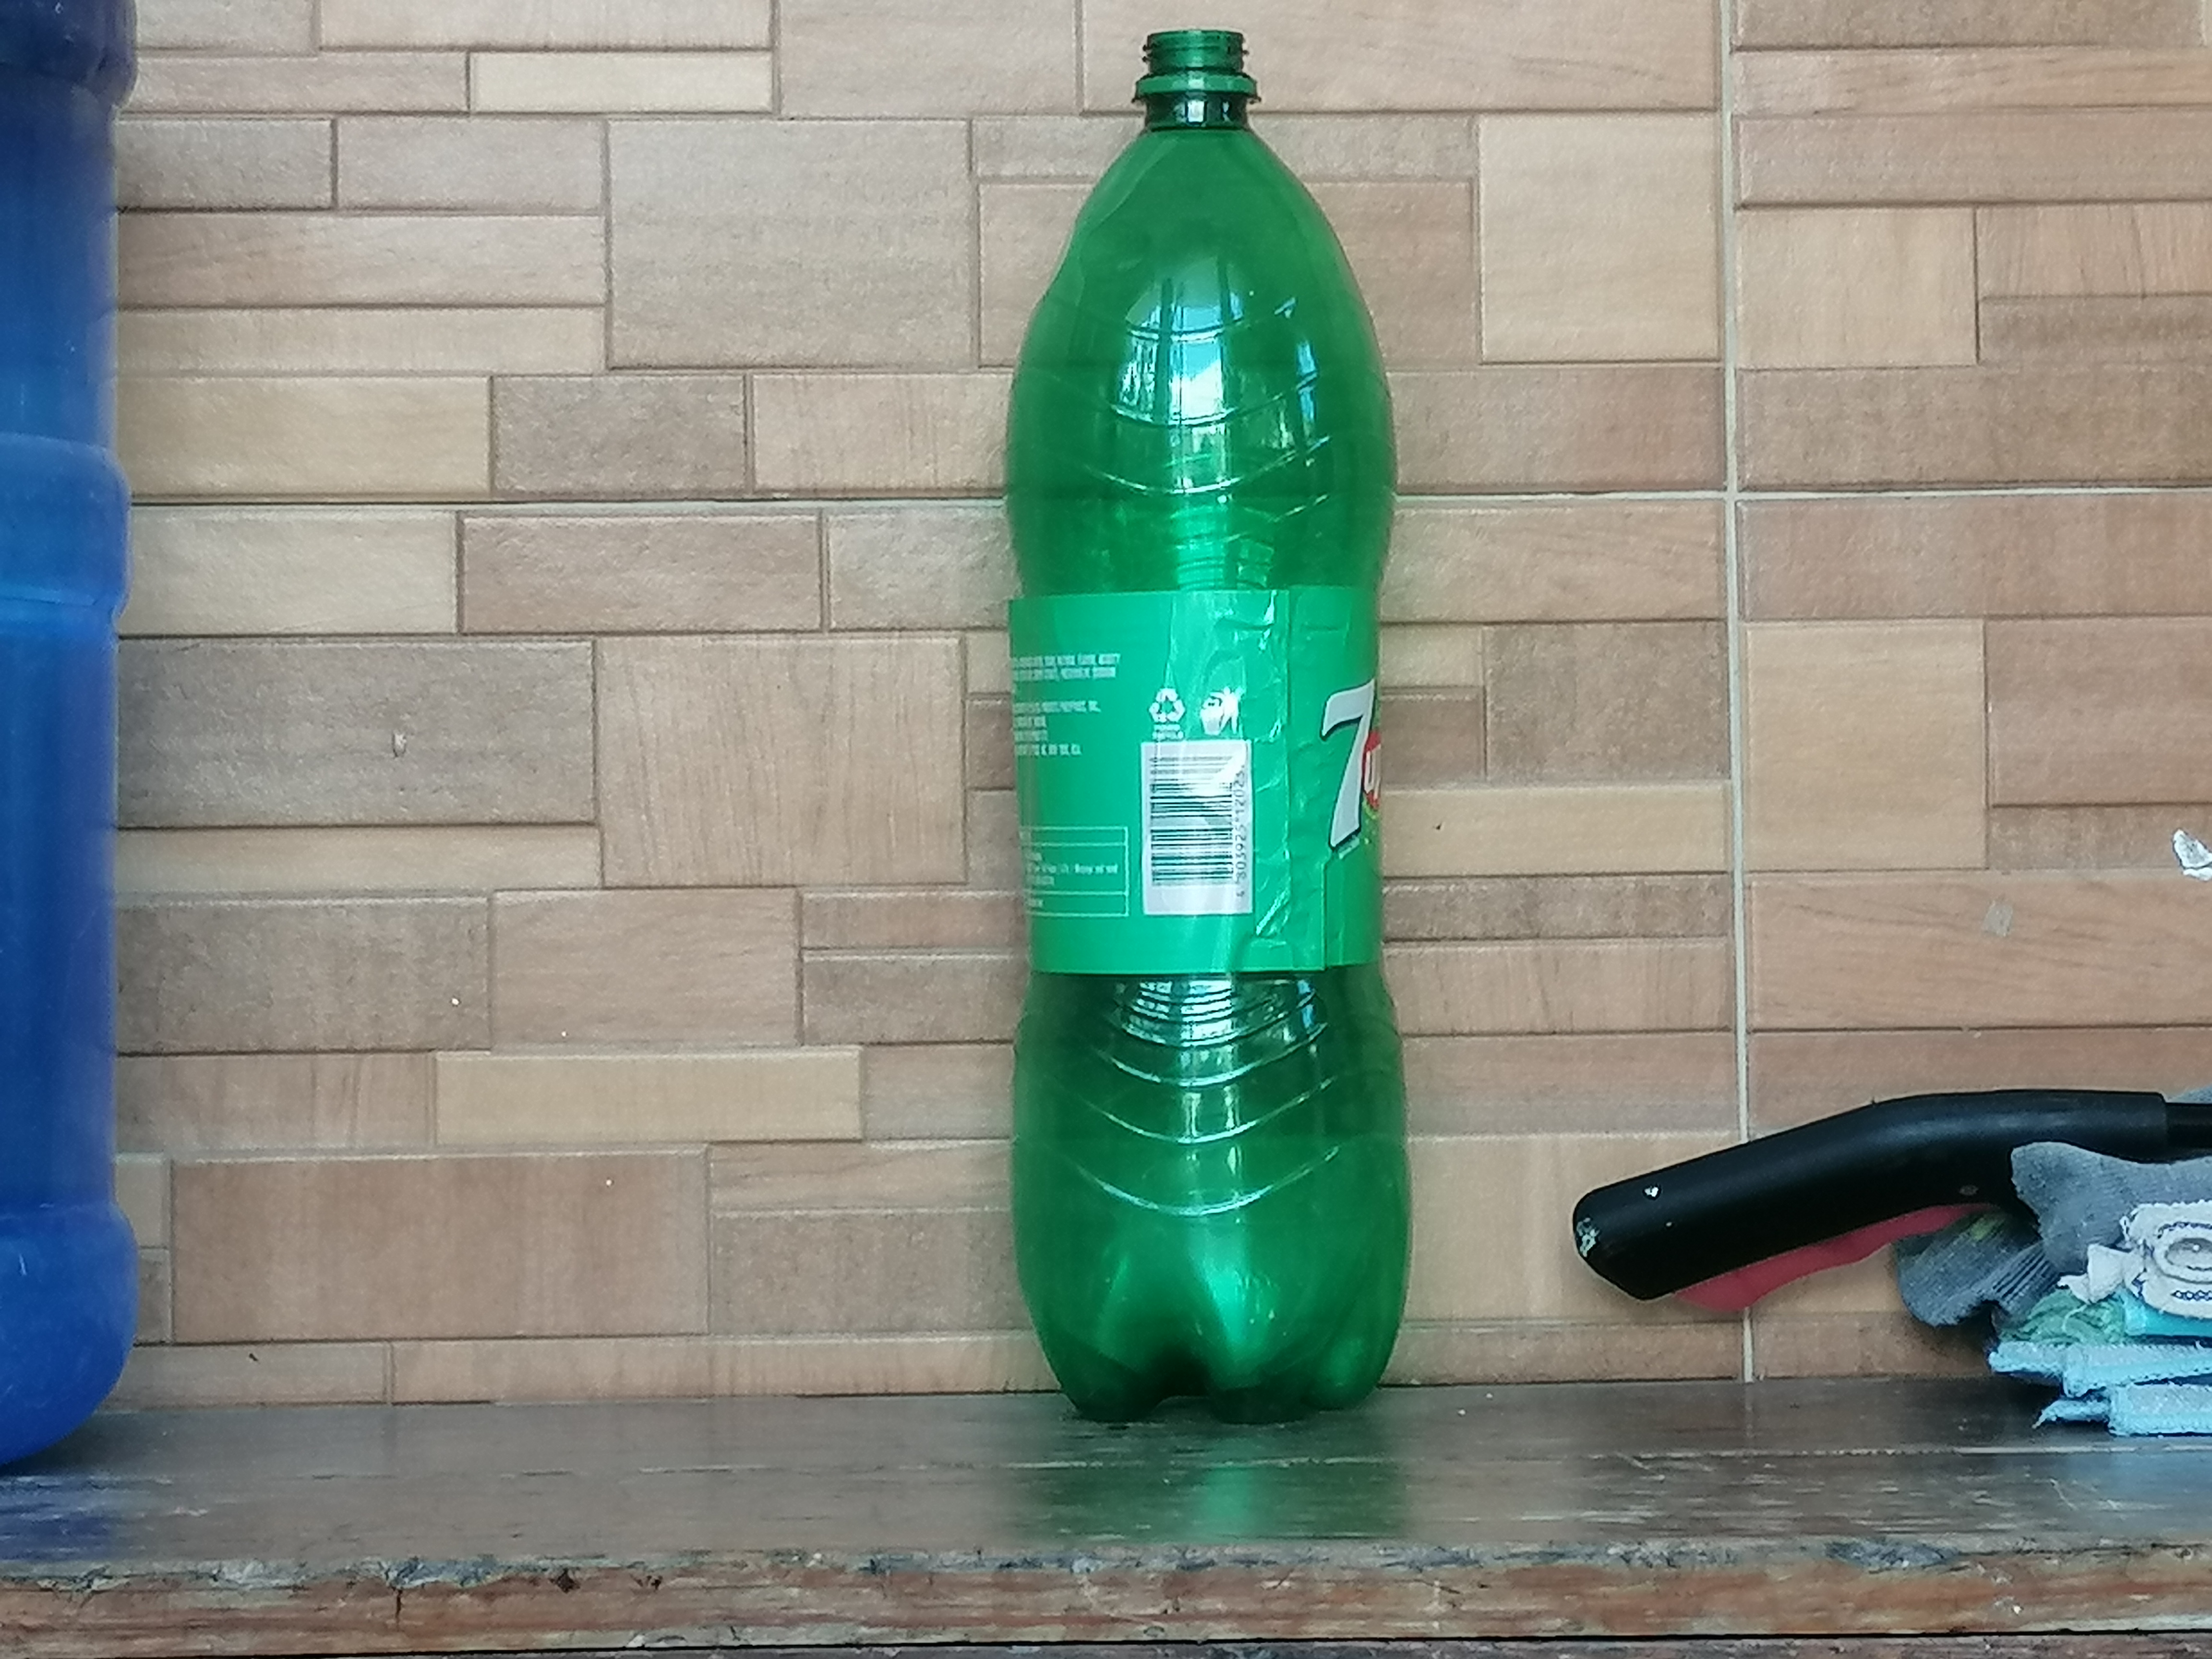bottle: (1007, 30, 1423, 1425)
